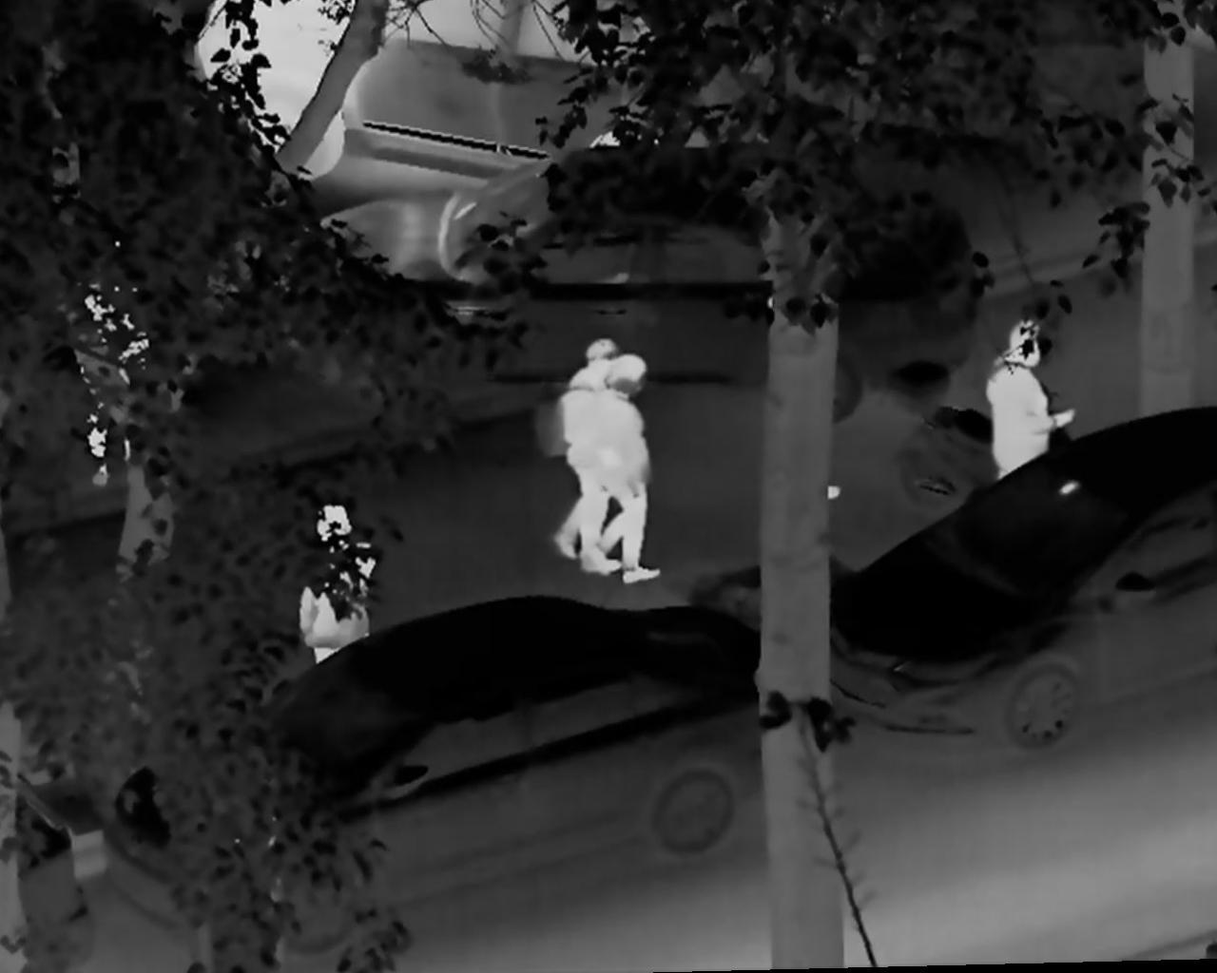person: (65, 237, 153, 495), (585, 352, 665, 585), (553, 339, 626, 576), (989, 315, 1075, 485), (293, 496, 377, 668)
